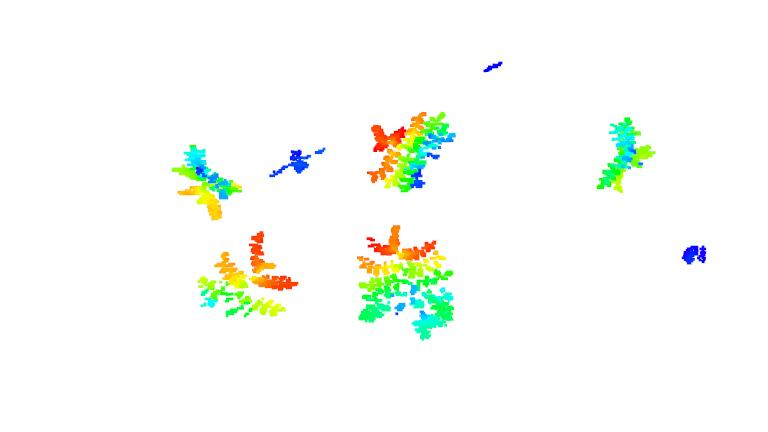chickpea: (356, 223, 458, 341), (195, 231, 300, 322), (365, 107, 456, 194), (171, 141, 244, 223), (589, 116, 657, 193)
